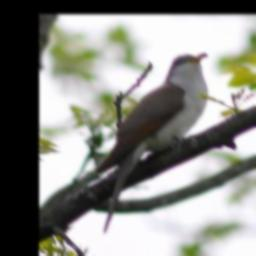Cuckoo: (92, 53, 209, 237)
